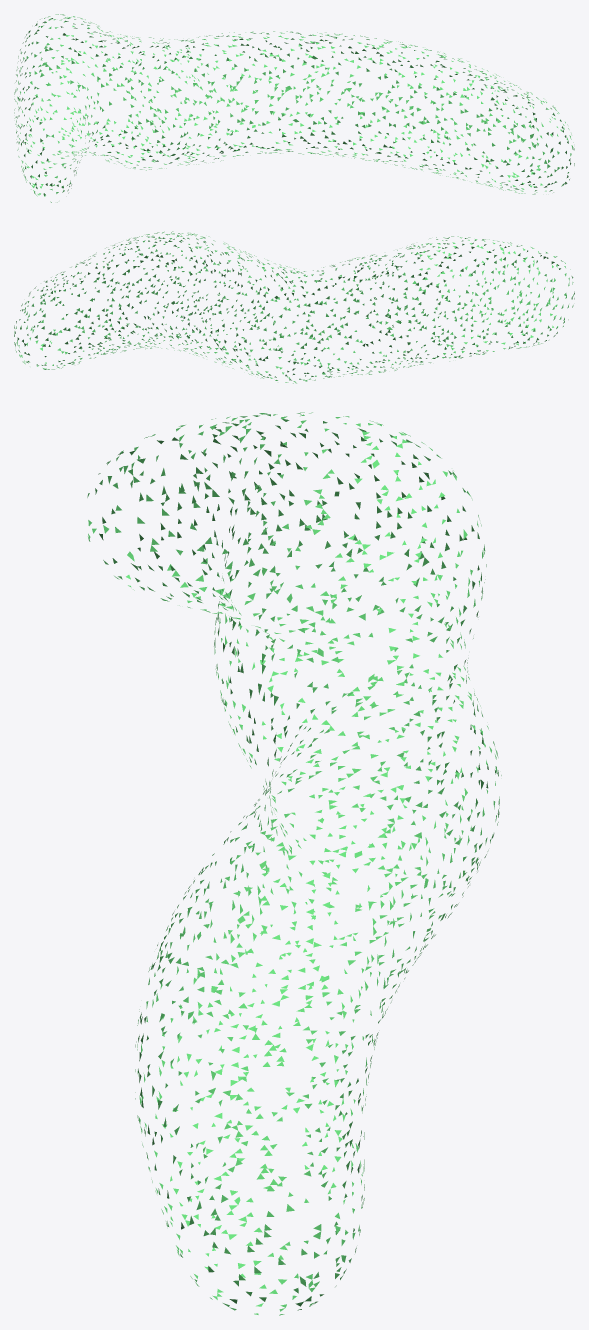
Rendered from morph_019.glb.
3 views of the same model, one above another, from view 1: azimuth 30°, elevation 25°; view 2: azimuth 150°, elevation 25°; view 3: azimuth 270°, elevation 25° (orthographic). The views are drawn at different scales.
Size of the model in its own units: 106 by 47.75 by 37.19.
